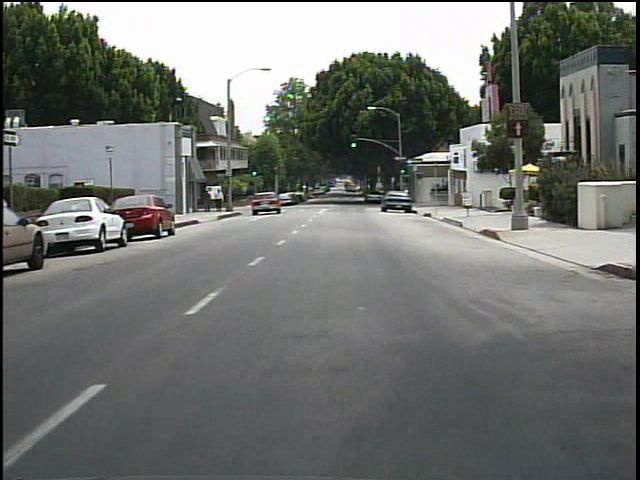person: (202, 189, 215, 215), (215, 188, 226, 213)
